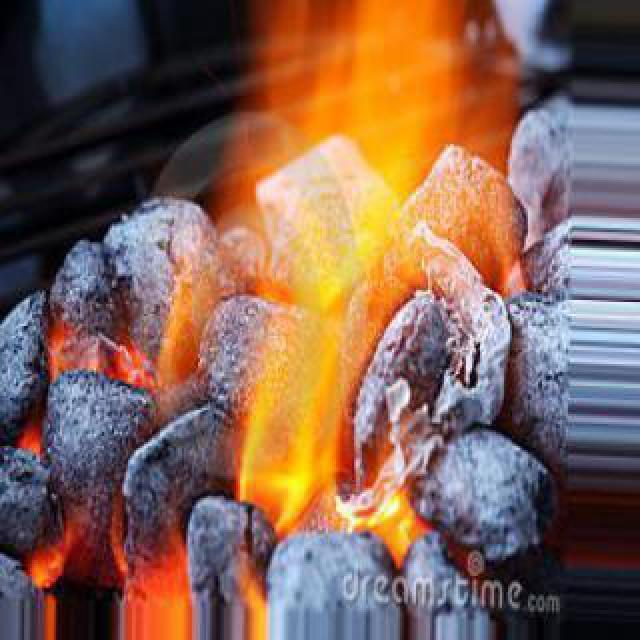Fire: (232, 14, 496, 528)
